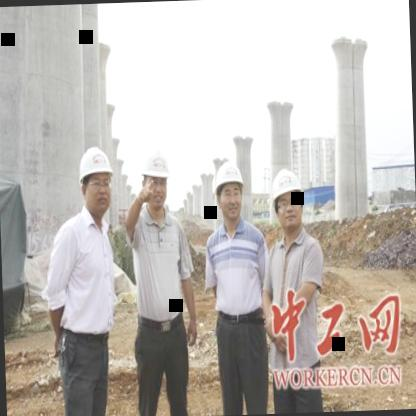helmet: (128, 131, 176, 218), (72, 137, 119, 225), (264, 154, 310, 240), (210, 155, 247, 226)
